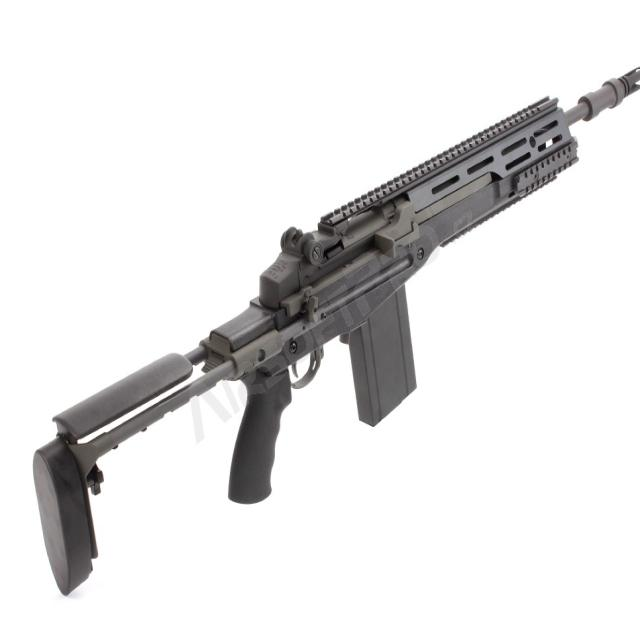Gun: (4, 56, 640, 566)
